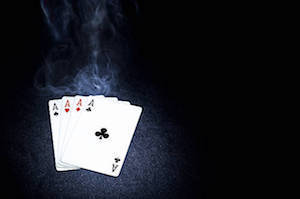AceOfClubs: (85, 95, 143, 178)
AceOfDiamonds: (73, 95, 86, 132)
AceOfHearts: (60, 95, 75, 131)
AceOfSpades: (48, 94, 60, 137)
